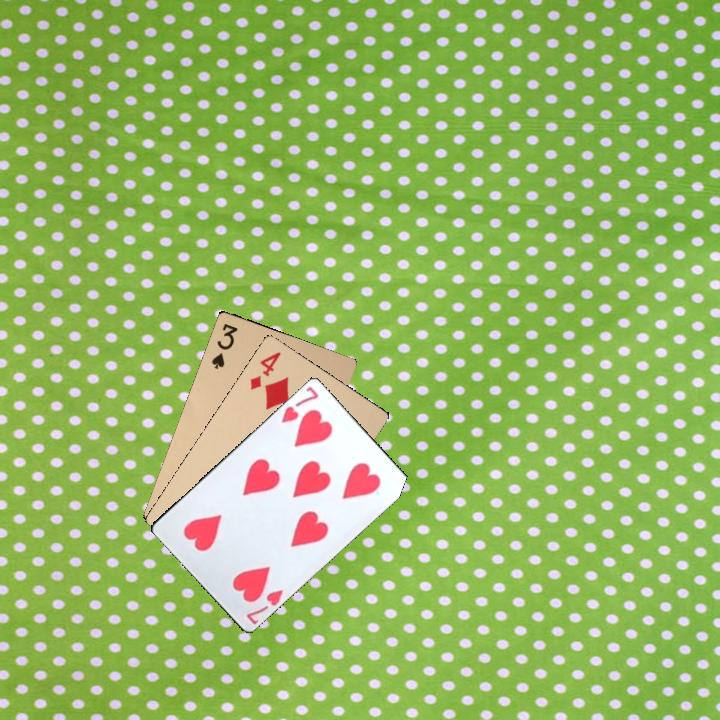3s: (207, 319, 240, 371)
4d: (246, 348, 284, 393)
7h: (277, 383, 321, 425), (242, 585, 286, 626)
